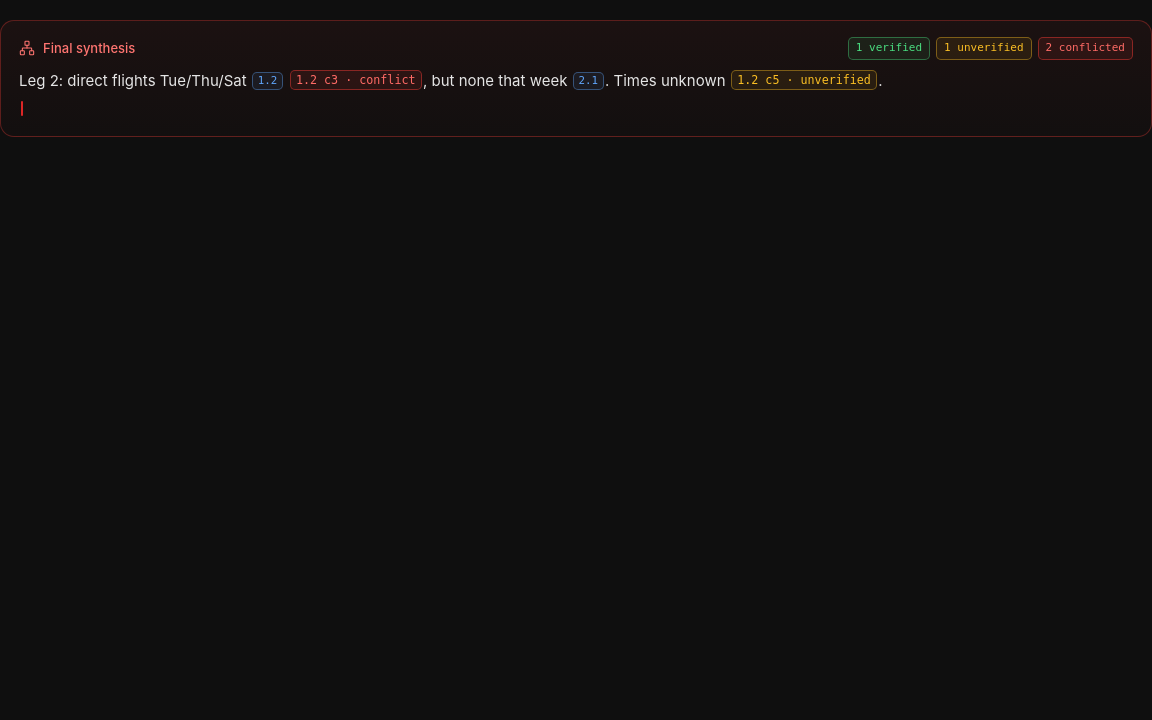
Test: ClaimsDrawer (spec B 7a) › a status-coloured chip opens the drawer on its claim, with status chips, judge score and attempt
Step 1. Click the link "1.2 c3 · conflict" → (356, 80), box [290,70,422,90]
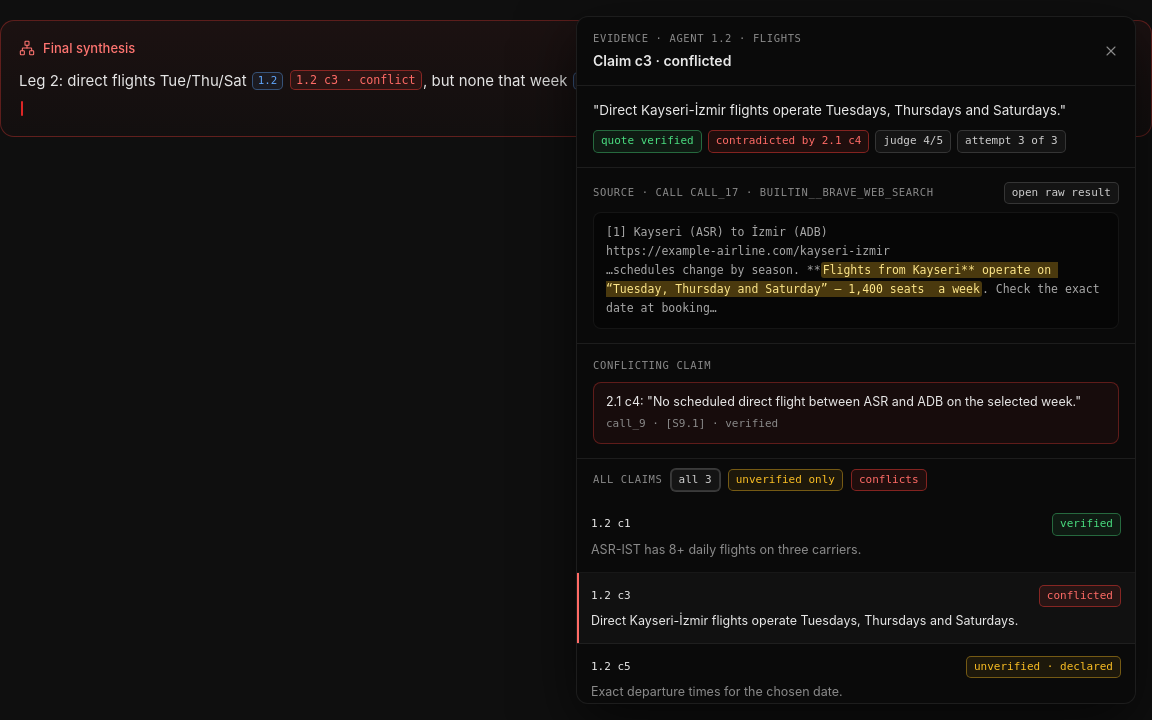
expect the text with test id "drawer-title" reads "Claim c3 · conflicted": met, box [593,52,731,69]
expect the text "Evidence · agent 1.2 · Flights" is shown: met, box [593,31,802,47]
expect the text with test id "drawer-claim-text" reads "\"Direct Kayseri-İzmir flights operate Tuesdays, Thursdays and Saturdays.\"": met, box [593,100,1119,120]
